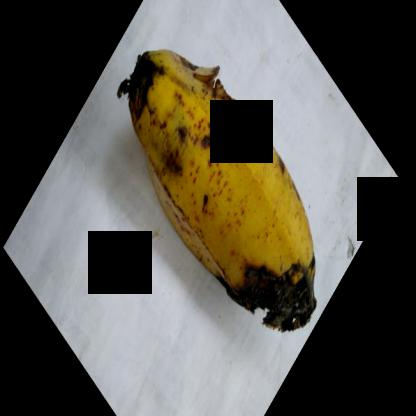rotten: (112, 33, 300, 182), (196, 240, 337, 344)
